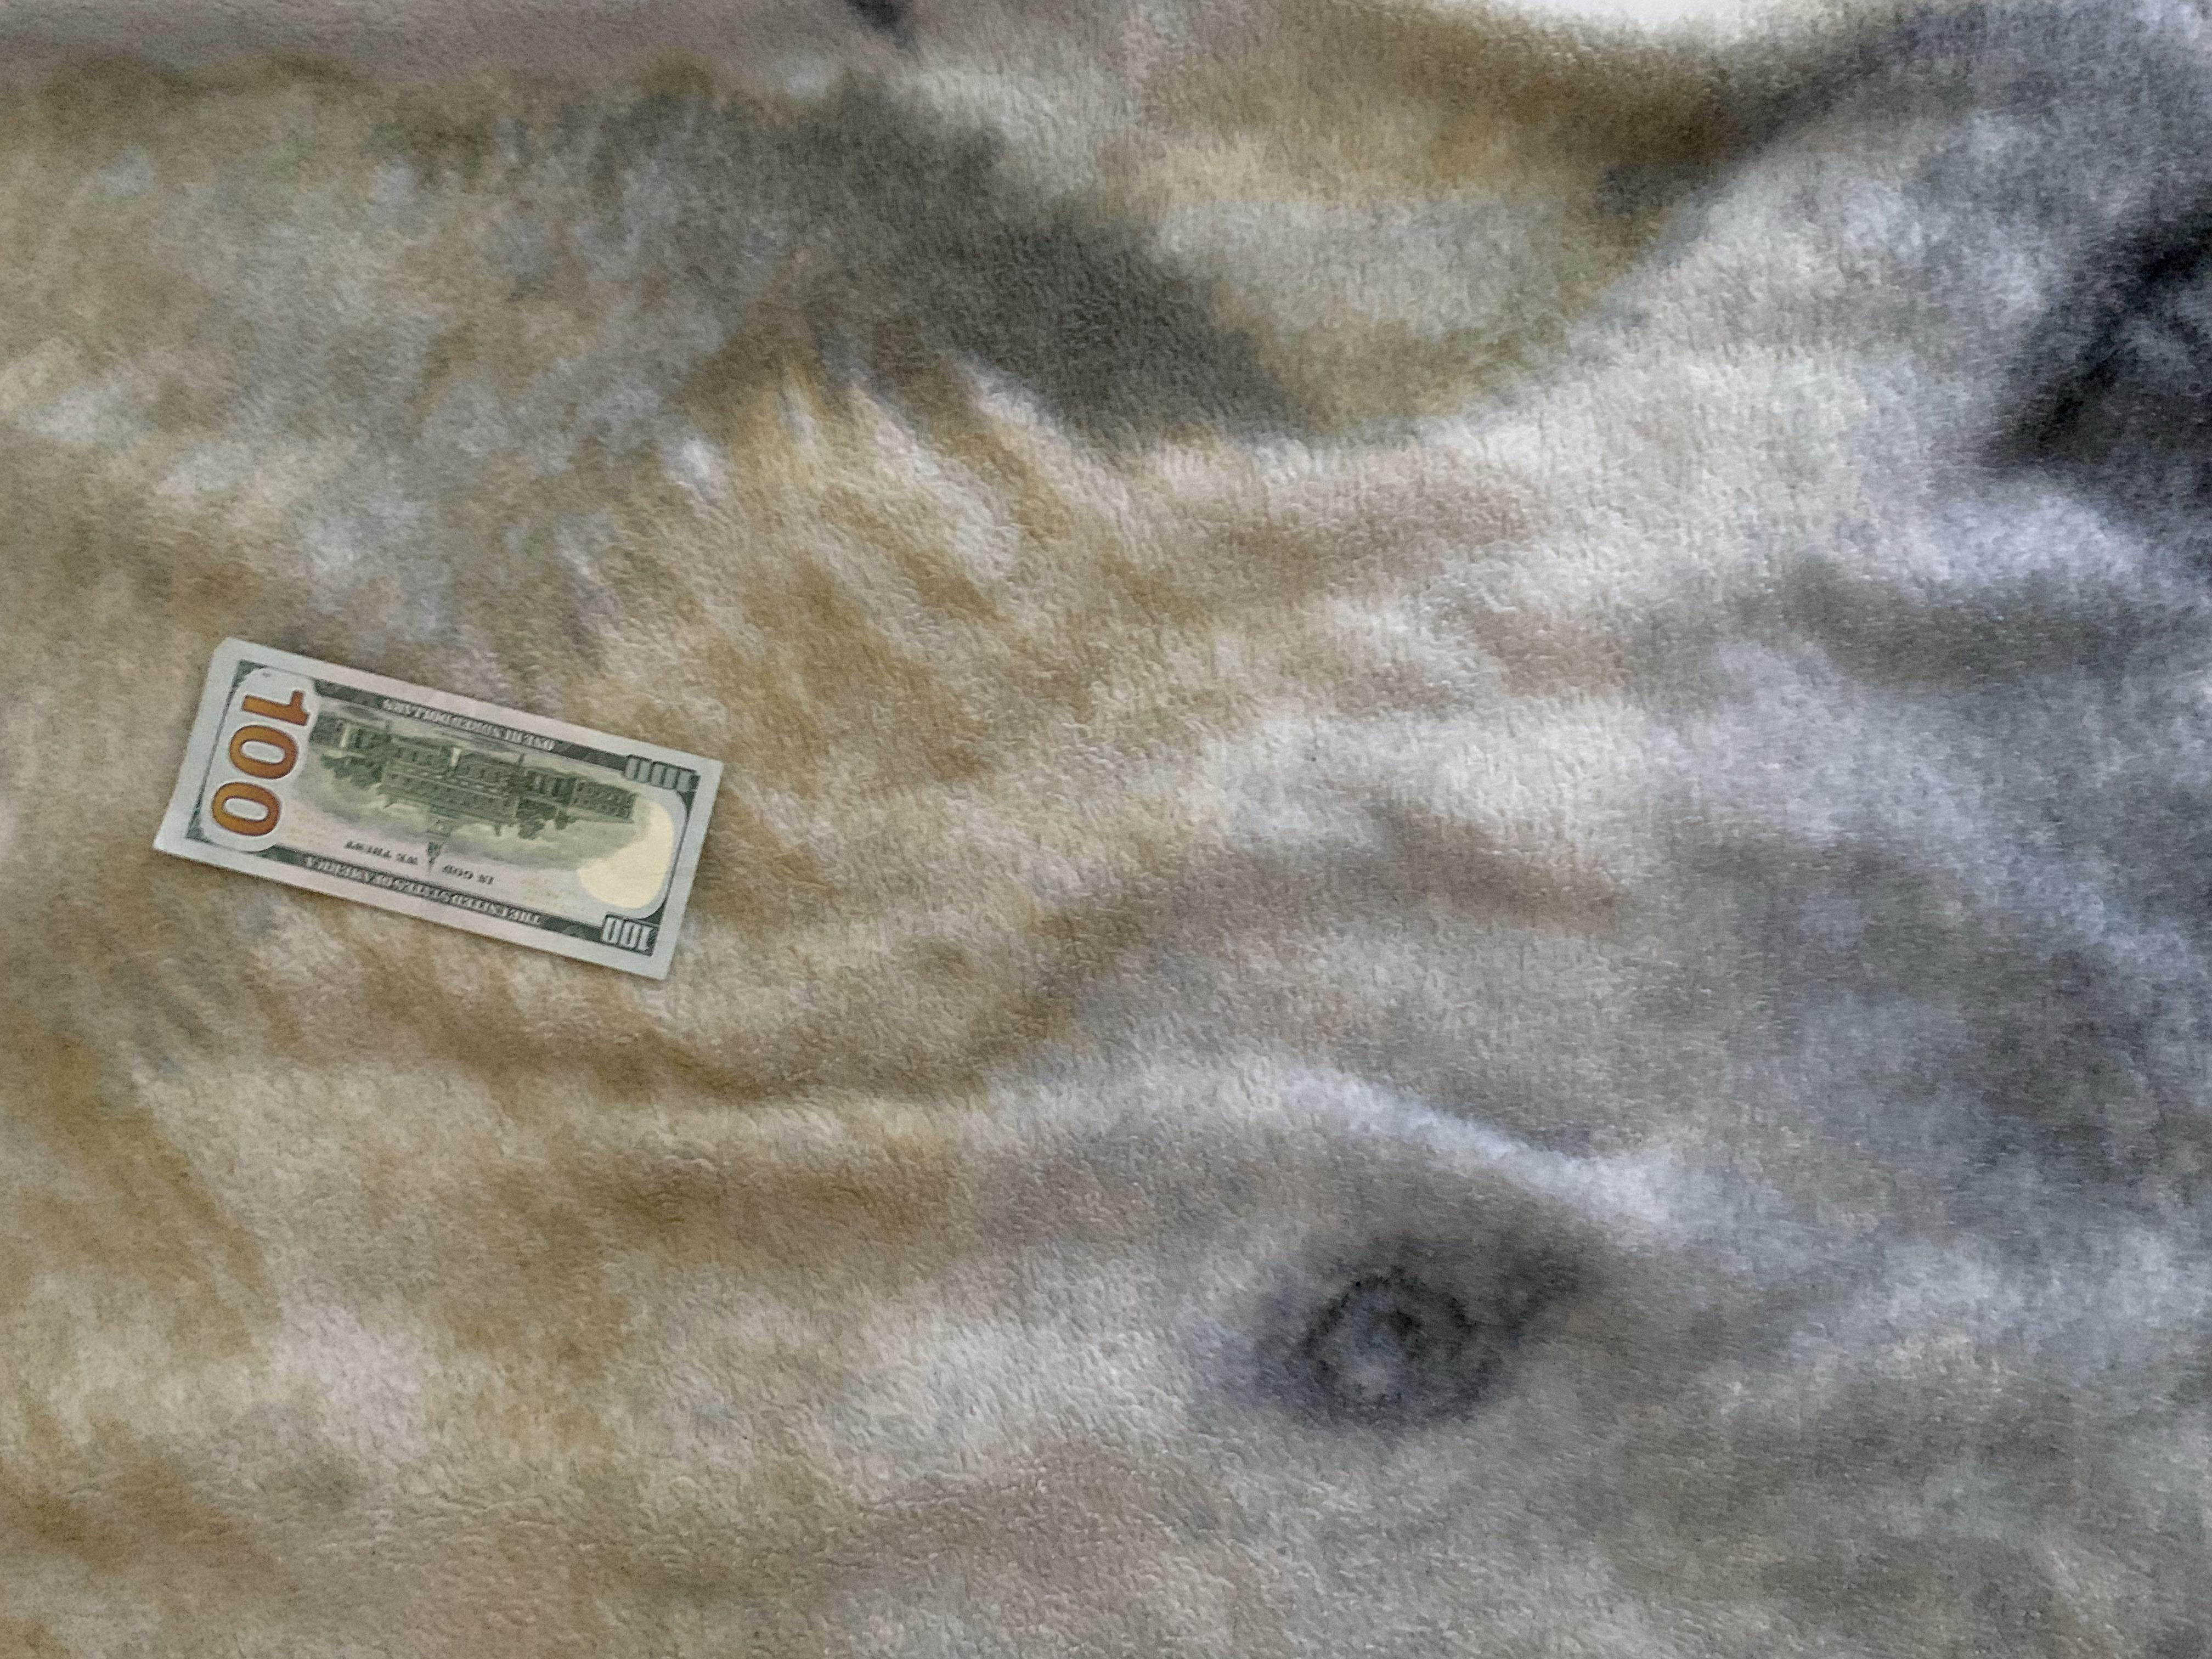HundredBill: (148, 629, 732, 983)
